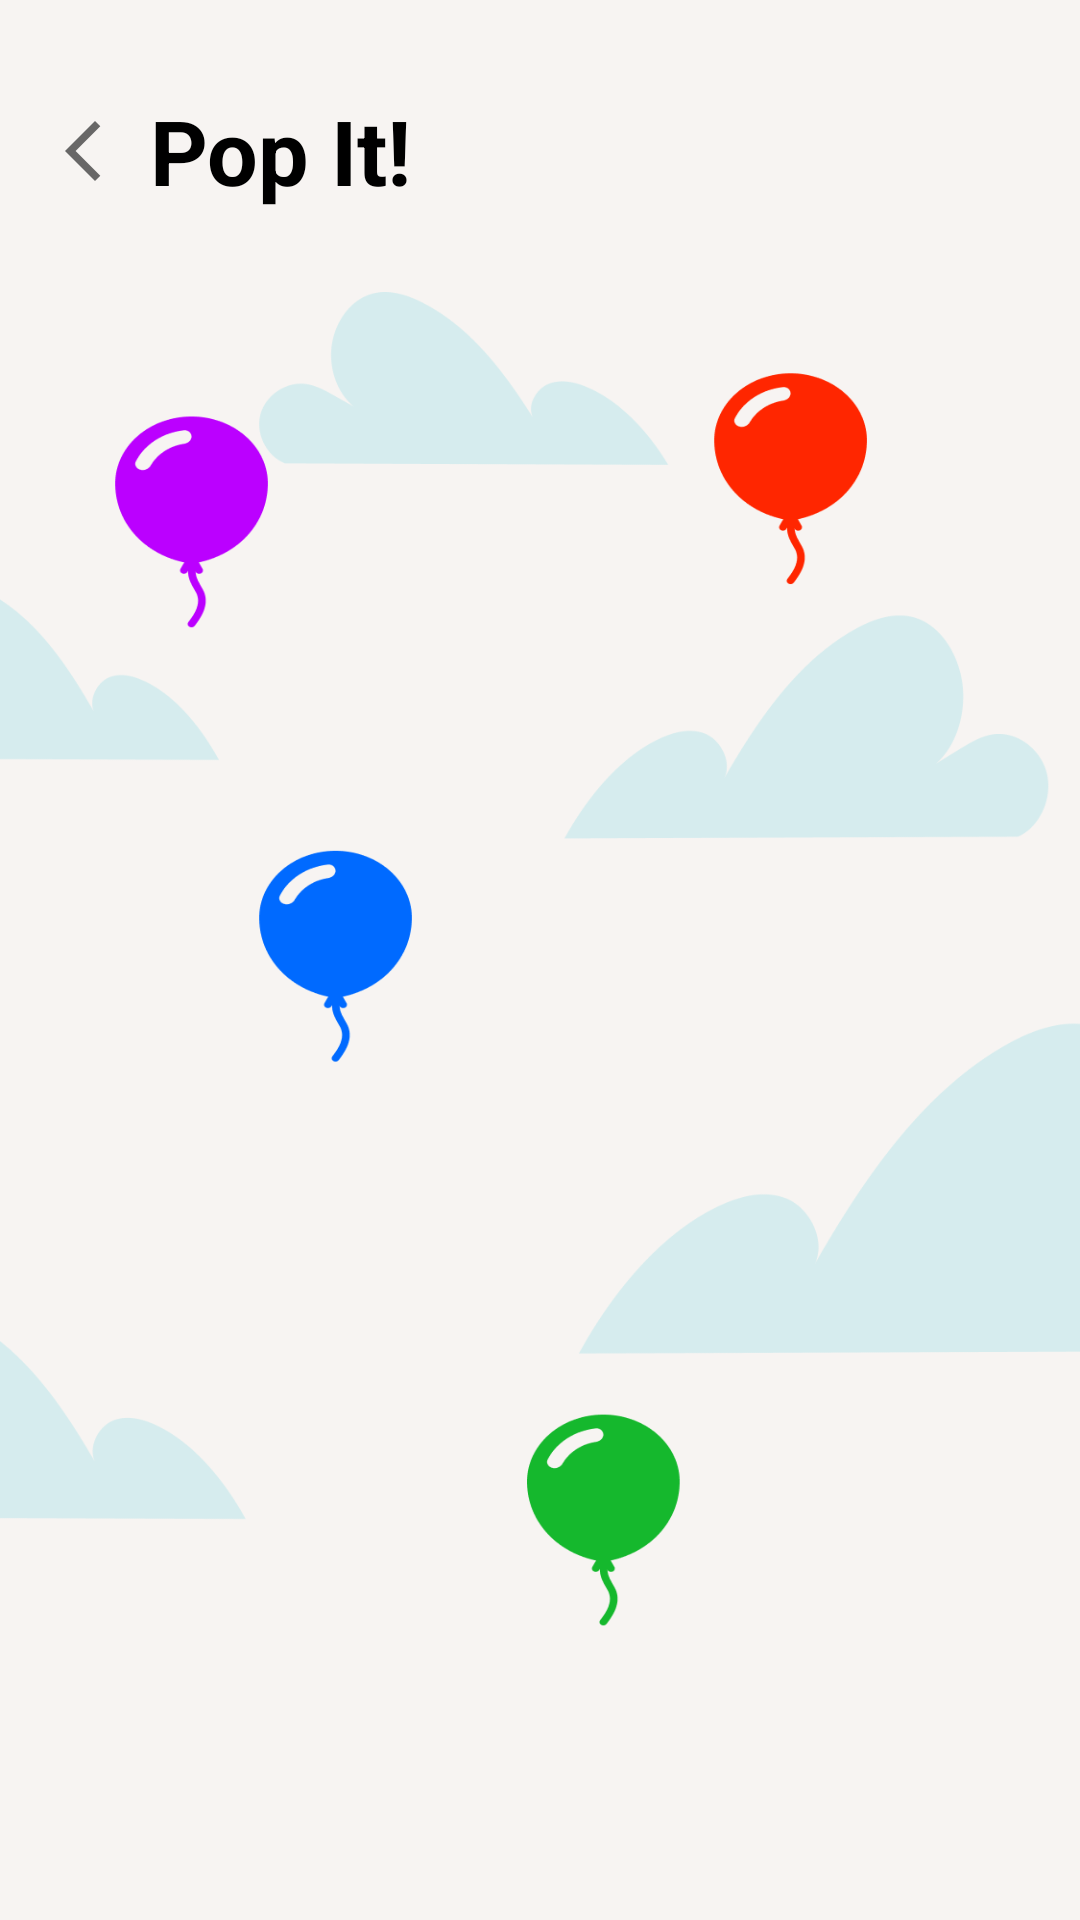

Where to tap for icons on this 1080*1920 app screen, as (x,y):
Back button: (82,151)
